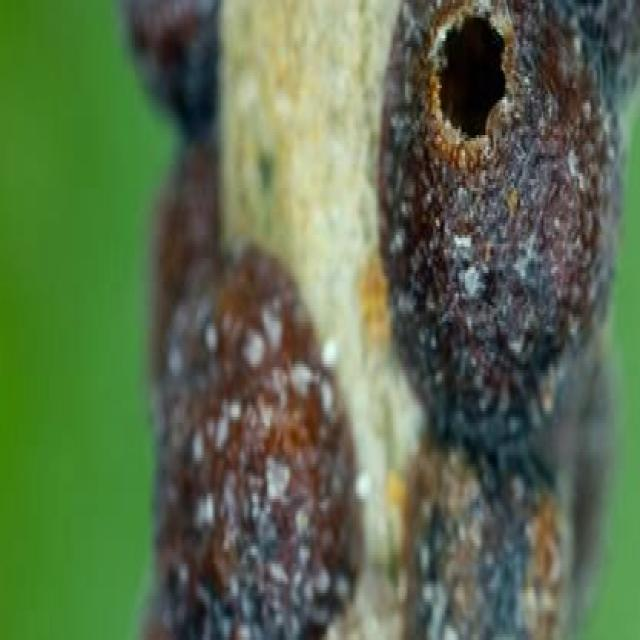BlackScale: (381, 0, 638, 467), (158, 247, 353, 637)
